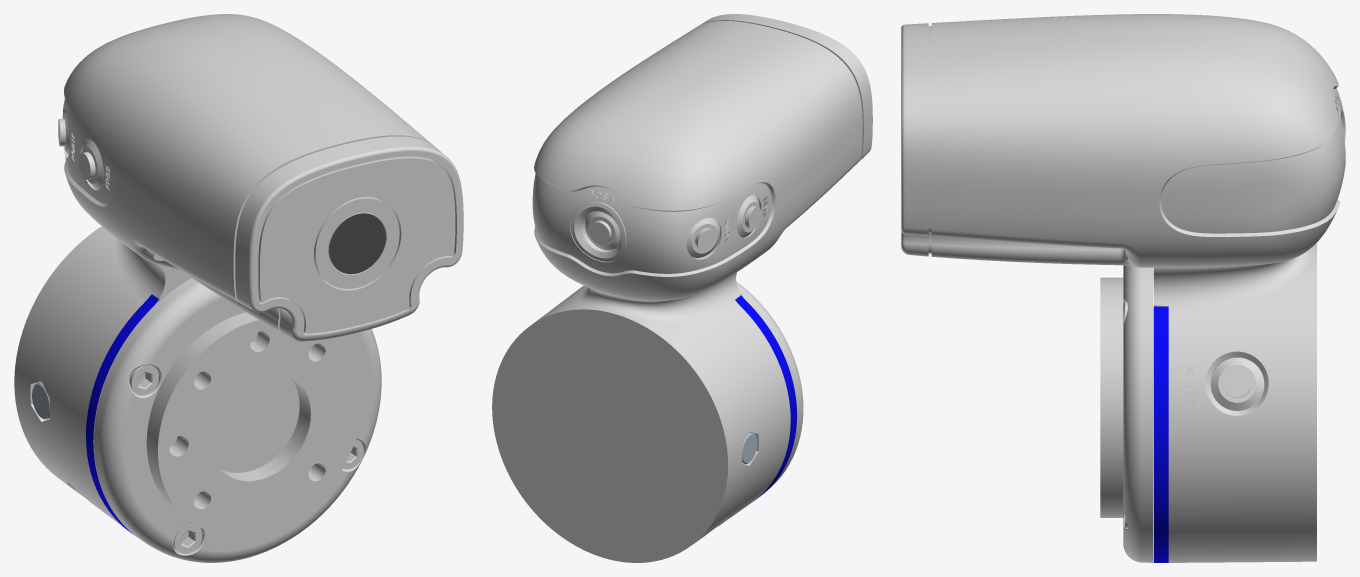
File: tmr_ee.obj
The picture shows the model from 3 angles, left to right: view 1: azimuth 30°, elevation 25°; view 2: azimuth 150°, elevation 25°; view 3: azimuth 270°, elevation 25°; orthographic projection. The views are drawn at different scales.
Visible parts, largest first — view 1: 151, 153, 147, 152, 146, 155, 17, 35; view 2: 147, 151, 155, 153, 146, 35; view 3: 147, 151, 153, 155, 90, 9, 17.
Part boxes in pixels (bbox=[...]): 151: bbox=[120, 46, 463, 341]; 153: bbox=[94, 278, 381, 562]; 147: bbox=[14, 14, 331, 529]; 152: bbox=[329, 213, 385, 274]; 146: bbox=[86, 311, 142, 450]; 155: bbox=[58, 112, 103, 189]; 17: bbox=[149, 264, 191, 300]; 35: bbox=[69, 255, 158, 317]; 147: bbox=[492, 77, 790, 562]; 151: bbox=[608, 14, 872, 242]; 155: bbox=[585, 195, 761, 257]; 153: bbox=[736, 282, 803, 490]; 146: bbox=[747, 311, 796, 428]; 35: bbox=[685, 277, 746, 354]; 147: bbox=[1131, 14, 1345, 562]; 151: bbox=[901, 14, 1151, 267]; 153: bbox=[1100, 265, 1152, 562]; 155: bbox=[1125, 251, 1263, 410]; 90: bbox=[1153, 449, 1168, 562]; 9: bbox=[1168, 317, 1316, 329]; 17: bbox=[1141, 266, 1300, 319].
Bounding box in the file's own units: 0.0867 × 0.1482 × 0.1166.
